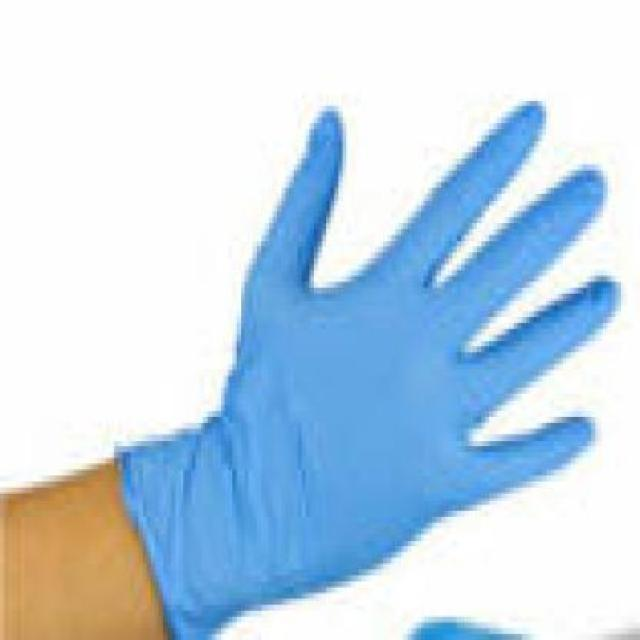glove_hand: (118, 94, 624, 634)
